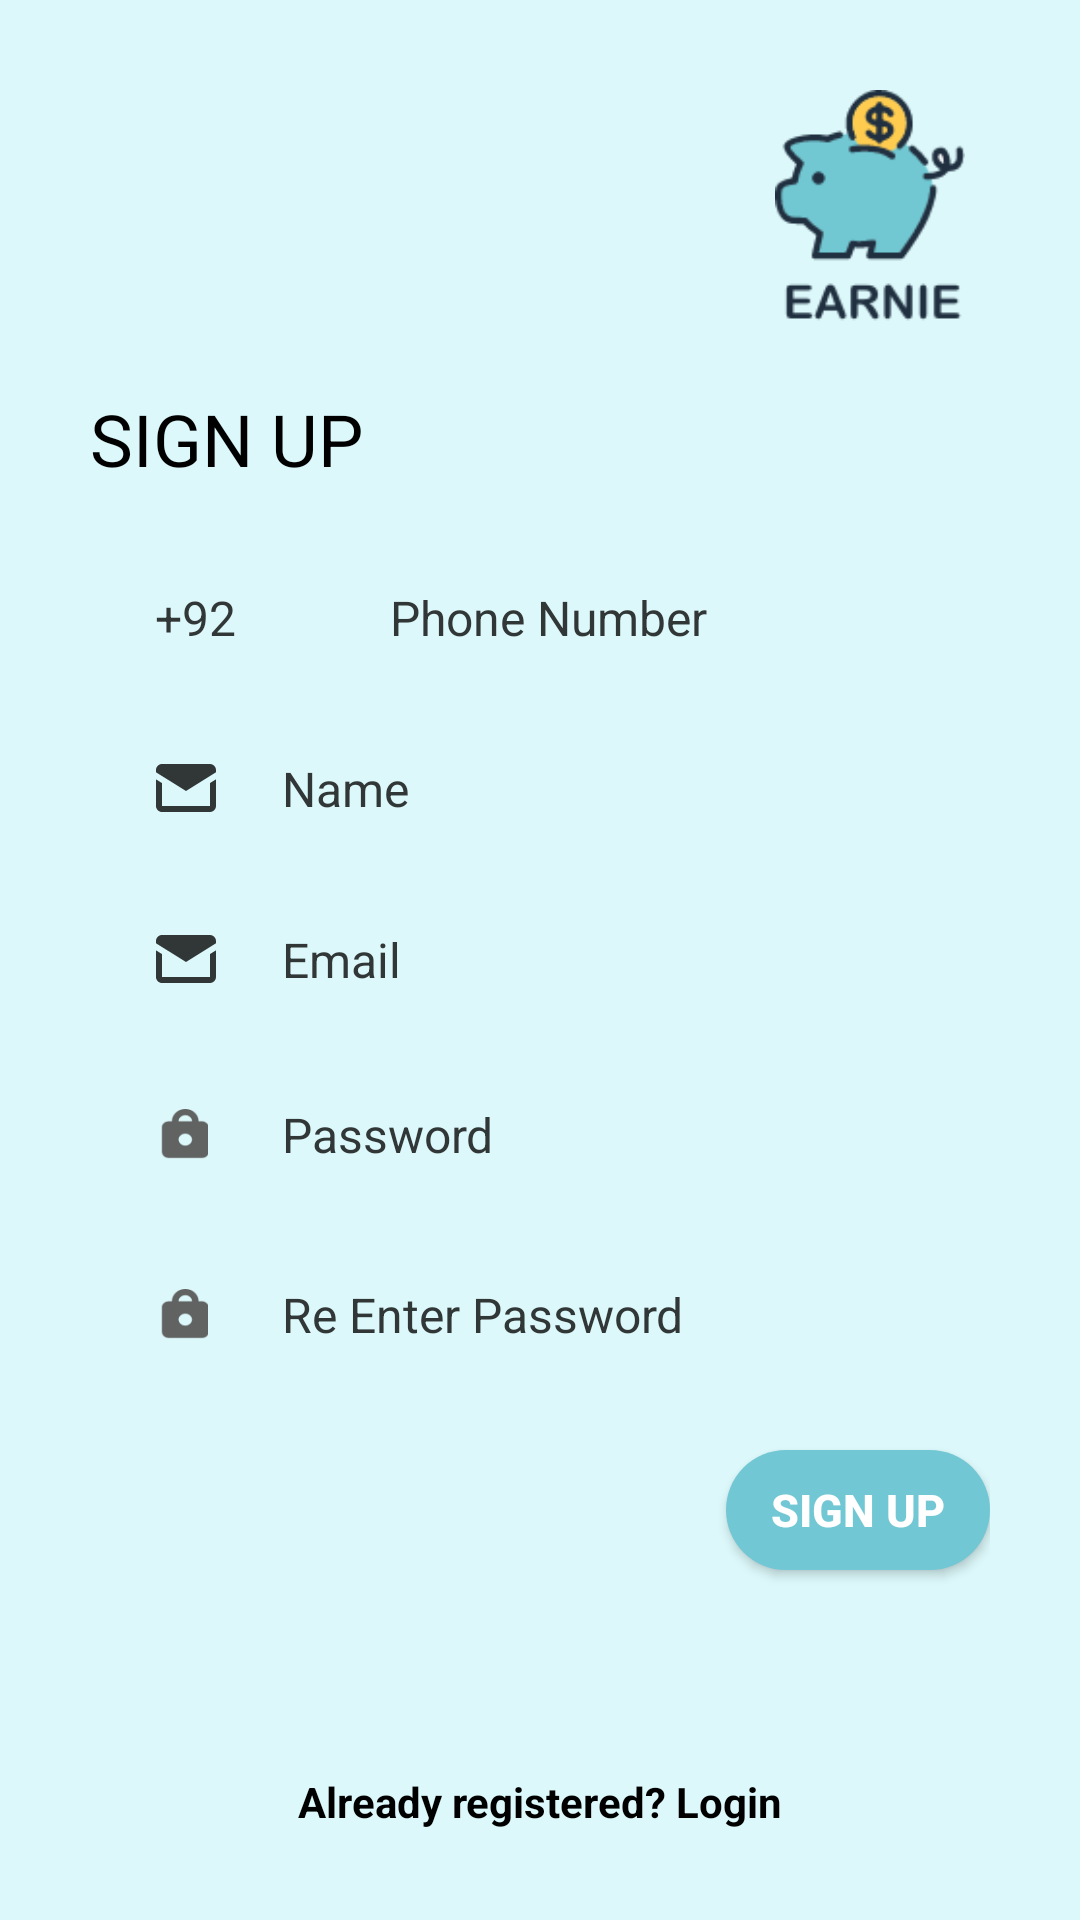

Where to tap for icons on this 1080 × 1920 app screen, as (x=x, y=y):
lock: (x=184, y=1133), (x=184, y=1313)
